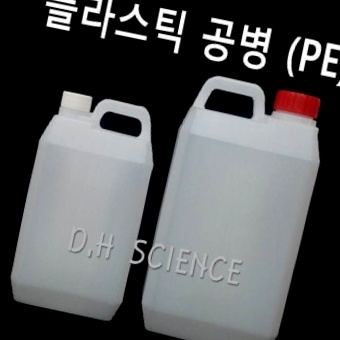plastic: (210, 81, 316, 339)
